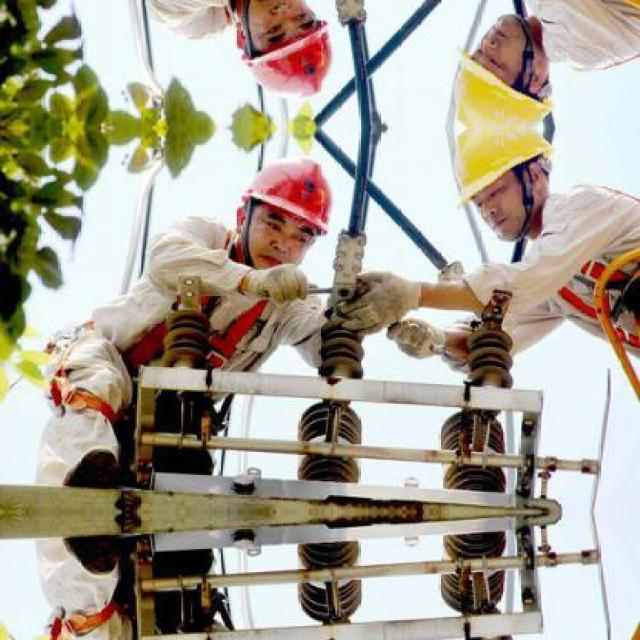helmet: (224, 147, 345, 271), (223, 0, 346, 109), (443, 126, 560, 239), (443, 16, 560, 129)
